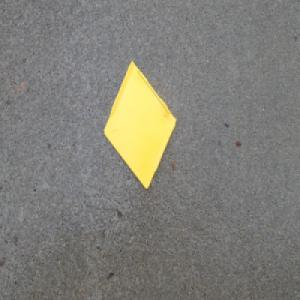PlasticPart: (102, 58, 177, 190)
